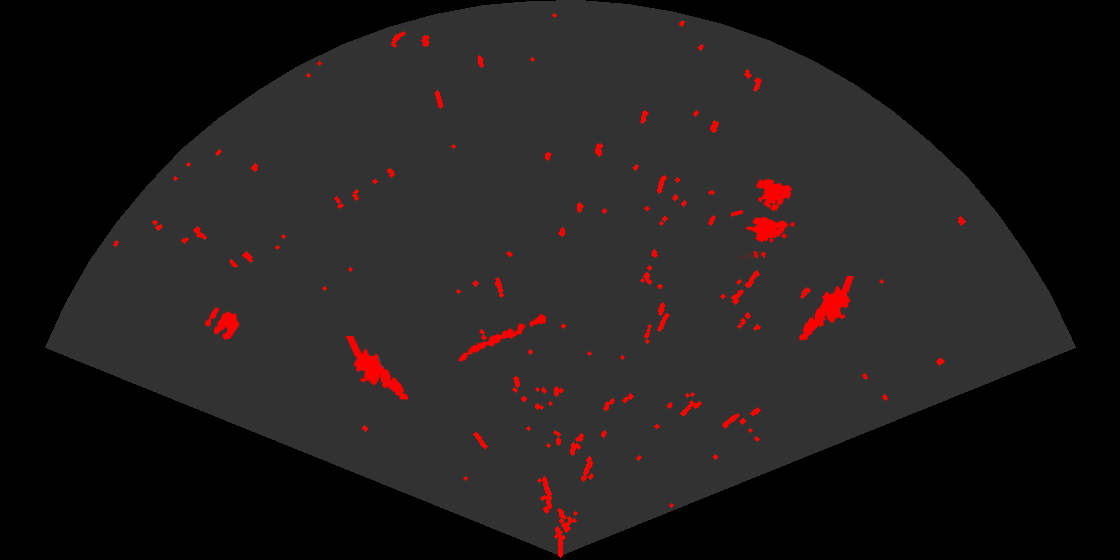ball: (203, 306, 241, 342)
cage: (731, 177, 797, 258)
chain: (457, 312, 548, 363)
frogman: (344, 336, 410, 402), (797, 276, 855, 342)
